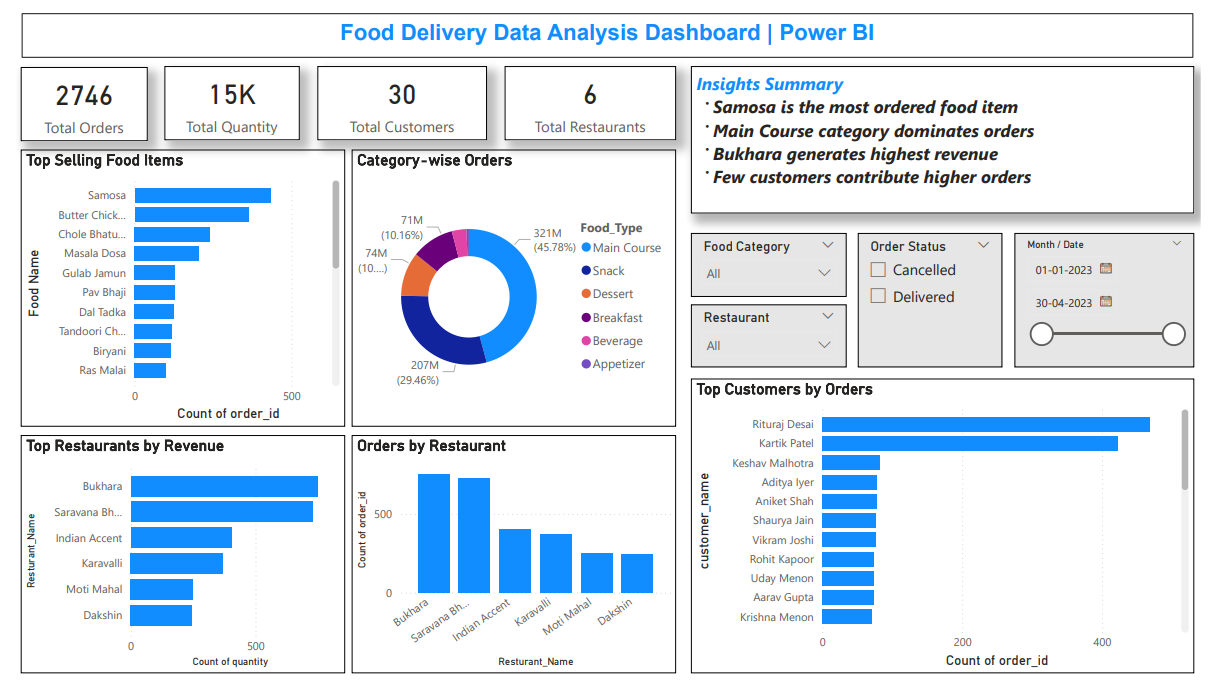

This screenshot's page, from the dashboard's own definition file:
{"tool":"powerbi","page":{"name":"Page 1","canvas":[1280,720],"ordinal":0},"visuals":[{"type":"textbox","box":[8.1,0,1264,47.7],"z":0},{"type":"barChart","title":"Top Selling Food Items","fields":{"Category":["Food_Details.Food Name"],"Y":["CountNonNull(Orders Data.order_id)"]},"box":[7.3,146.7,349.7,299.6],"z":1000},{"type":"donutChart","title":"Category-wise Orders","fields":{"Category":["Food_Details.Food_Type"],"Y":["Sum(Orders Data.order_id)"]},"box":[364.4,146.7,349.7,299.6],"z":2000},{"type":"clusteredBarChart","title":"Top Restaurants by Revenue","fields":{"Category":["Resturant_Details.Resturant_Name"],"Y":["CountNonNull(Orders Data.quantity)"]},"box":[7.3,454.9,349.7,256.8],"z":3000},{"type":"clusteredColumnChart","title":"Orders by Restaurant","fields":{"Category":["Resturant_Details.Resturant_Name"],"Y":["CountNonNull(Orders Data.order_id)"]},"box":[364.4,454.9,349.7,256.8],"z":4000},{"type":"clusteredBarChart","title":"Top Customers by Orders","fields":{"Category":["Customer Details.customer_name"],"Y":["CountNonNull(Orders Data.order_id)"]},"box":[730,393.8,542.9,317.9],"z":5000},{"type":"card","fields":{"Values":["CountNonNull(Orders Data.order_id)"]},"box":[7,58.1,137.2,80.2],"z":6000},{"type":"card","fields":{"Values":["Sum(Orders Data.quantity)"]},"box":[161.6,57,146.5,80.2],"z":7000},{"type":"card","fields":{"Values":["Count(Customer Details.customer_id)"]},"box":[326.7,57,183.7,80.2],"z":8000},{"type":"card","fields":{"Values":["Count(Resturant_Details.Resturant_Code)"]},"box":[529.1,57,184.9,80.2],"z":9000},{"type":"textbox","box":[730,57.5,542.9,159],"z":10000},{"type":"slicer","fields":{"Values":["Food_Details.Food_Type"]},"box":[730,237.2,167.5,68.5],"z":11000},{"type":"slicer","fields":{"Values":["Resturant_Details.Resturant_Name"]},"box":[730,314.3,167.5,67.3],"z":12000},{"type":"slicer","fields":{"Values":["Orders Data.deliver_status"]},"box":[909.8,237.2,156.5,144.3],"z":13000},{"type":"slicer","fields":{"Values":["Orders Data.orderDate"]},"box":[1078.5,237.2,194.4,144.3],"z":14000}]}

Visuals, with their boxes in screenshot pixels (x1, y1, x2, y2), scaled from the page's 1280x720 canvas onto the 1218x687 screenshot:
textbox: <bbox>8, 0, 1210, 46</bbox>
"Top Selling Food Items" barChart: <bbox>7, 140, 340, 426</bbox>
"Category-wise Orders" donutChart: <bbox>347, 140, 680, 426</bbox>
"Top Restaurants by Revenue" clusteredBarChart: <bbox>7, 434, 340, 679</bbox>
"Orders by Restaurant" clusteredColumnChart: <bbox>347, 434, 680, 679</bbox>
"Top Customers by Orders" clusteredBarChart: <bbox>695, 376, 1211, 679</bbox>
card - CountNonNull(Orders Data.order_id): <bbox>7, 55, 137, 132</bbox>
card - Sum(Orders Data.quantity): <bbox>154, 54, 293, 131</bbox>
card - Count(Customer Details.customer_id): <bbox>311, 54, 486, 131</bbox>
card - Count(Resturant_Details.Resturant_Code): <bbox>503, 54, 679, 131</bbox>
textbox: <bbox>695, 55, 1211, 207</bbox>
slicer - Food_Details.Food_Type: <bbox>695, 226, 854, 292</bbox>
slicer - Resturant_Details.Resturant_Name: <bbox>695, 300, 854, 364</bbox>
slicer - Orders Data.deliver_status: <bbox>866, 226, 1015, 364</bbox>
slicer - Orders Data.orderDate: <bbox>1026, 226, 1211, 364</bbox>
